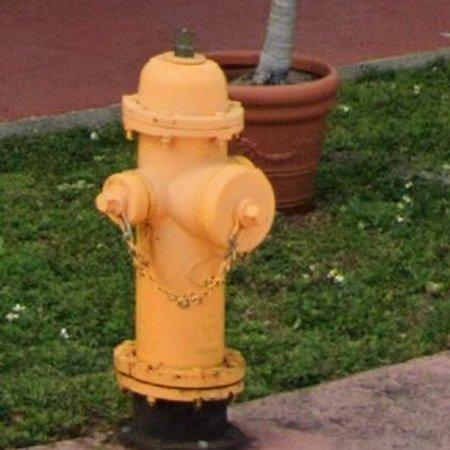a fire hydrant: (96, 51, 276, 450)
